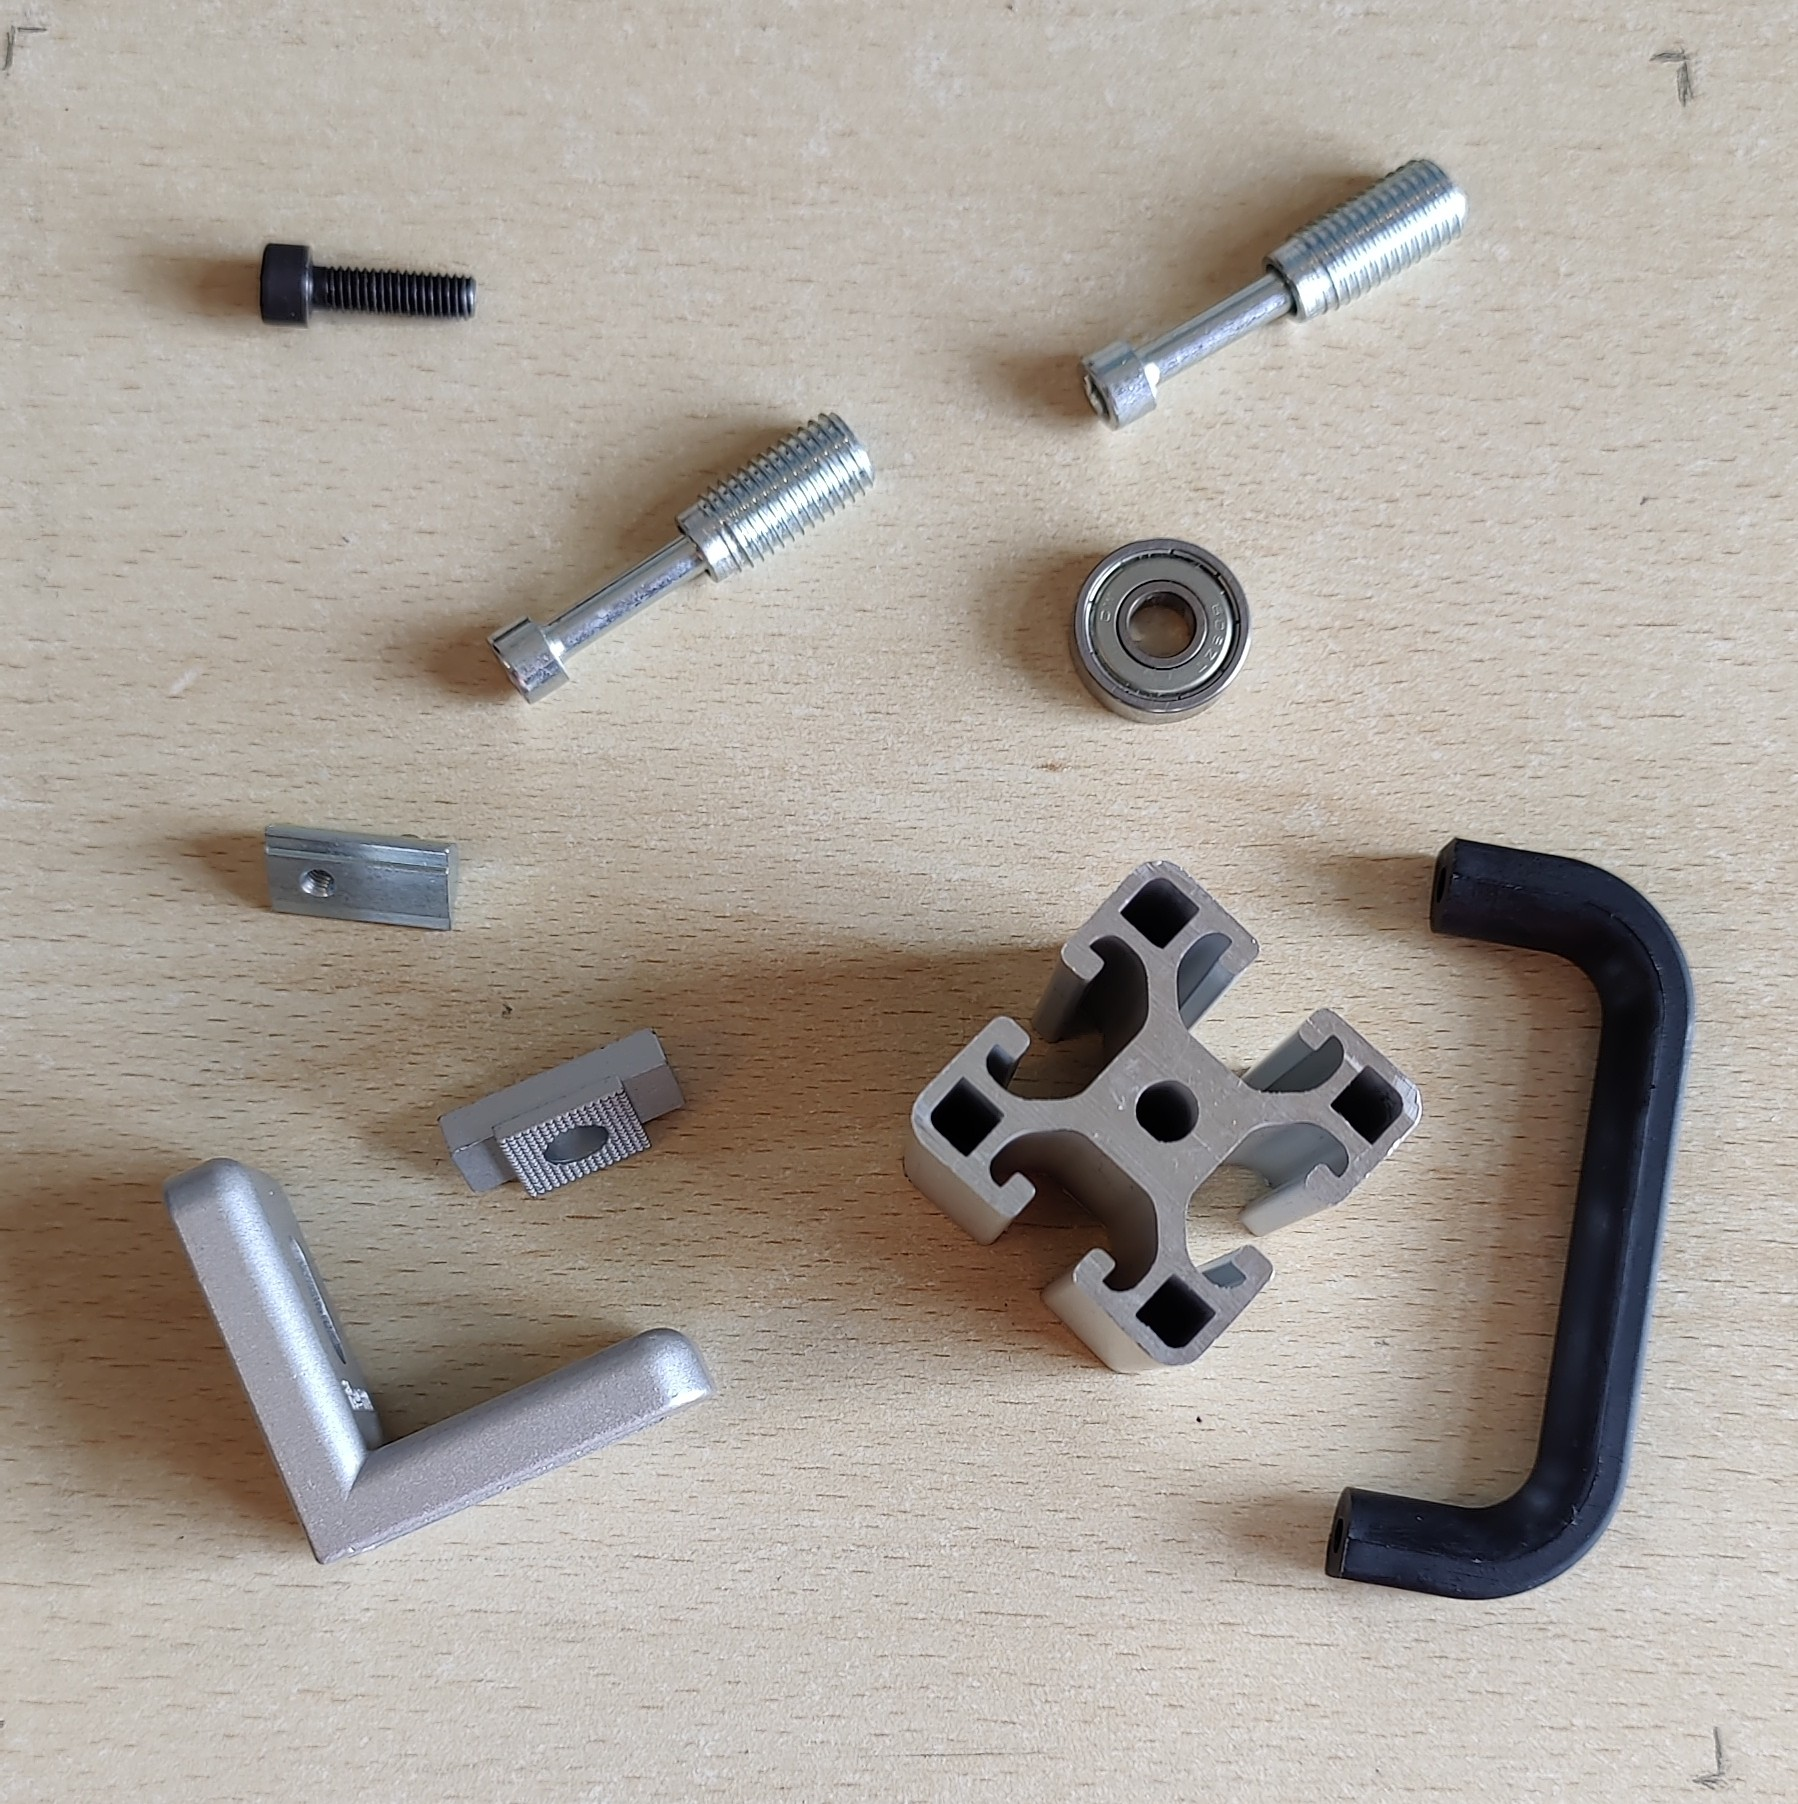Aluminium Extension: (901, 858, 1423, 1378)
Ball Bearing: (1065, 533, 1251, 728)
Multiwinkel: (161, 1155, 723, 1570)
Pull Handle: (1319, 835, 1698, 1603)
Shoulder Socket Head Cap Screw: (486, 407, 881, 708), (1077, 151, 1474, 435)
Socket Head Cap Screw: (254, 237, 477, 331)
T Nut Square: (436, 1021, 693, 1202)
T Spring Nut: (259, 821, 468, 933)
